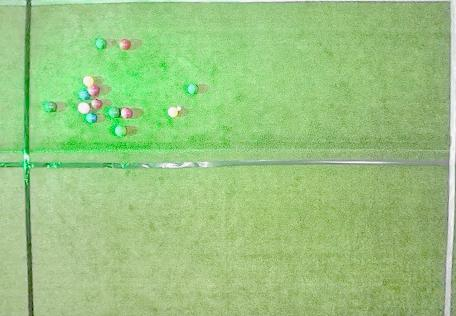blue: (79, 89, 90, 100), (86, 113, 97, 123)
green: (115, 125, 126, 137), (109, 107, 120, 118), (45, 102, 56, 113), (188, 84, 198, 94), (96, 39, 106, 49)
red: (78, 102, 90, 114), (121, 107, 133, 119), (119, 39, 131, 50), (88, 85, 100, 96), (92, 99, 103, 109)
vline: (1, 1, 36, 315), (442, 1, 455, 315)
white: (177, 106, 181, 111)
yellow: (83, 76, 94, 86), (168, 107, 178, 117)
